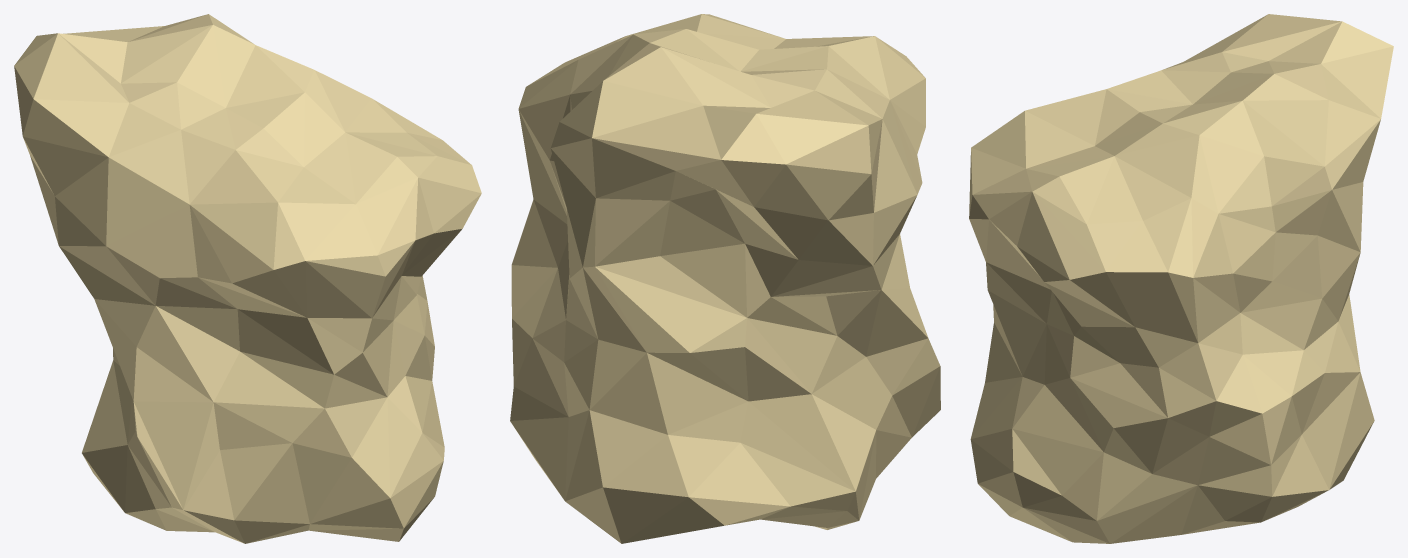
The model's file is Asteroid (118).fbx.
3 views of the same model, side by side, from view 1: azimuth 30°, elevation 25°; view 2: azimuth 150°, elevation 25°; view 3: azimuth 270°, elevation 25° (orthographic). The views are drawn at different scales.
Parts seen in each view (by area): view 1: Asteroid158; view 2: Asteroid158; view 3: Asteroid158.
Part boxes in pixels (x1=…): Asteroid158: x1=14, y1=14, x2=481, y2=543; Asteroid158: x1=510, y1=14, x2=940, y2=543; Asteroid158: x1=969, y1=14, x2=1393, y2=543.
Bounding box in the file's own units: 223 × 260 × 231.
